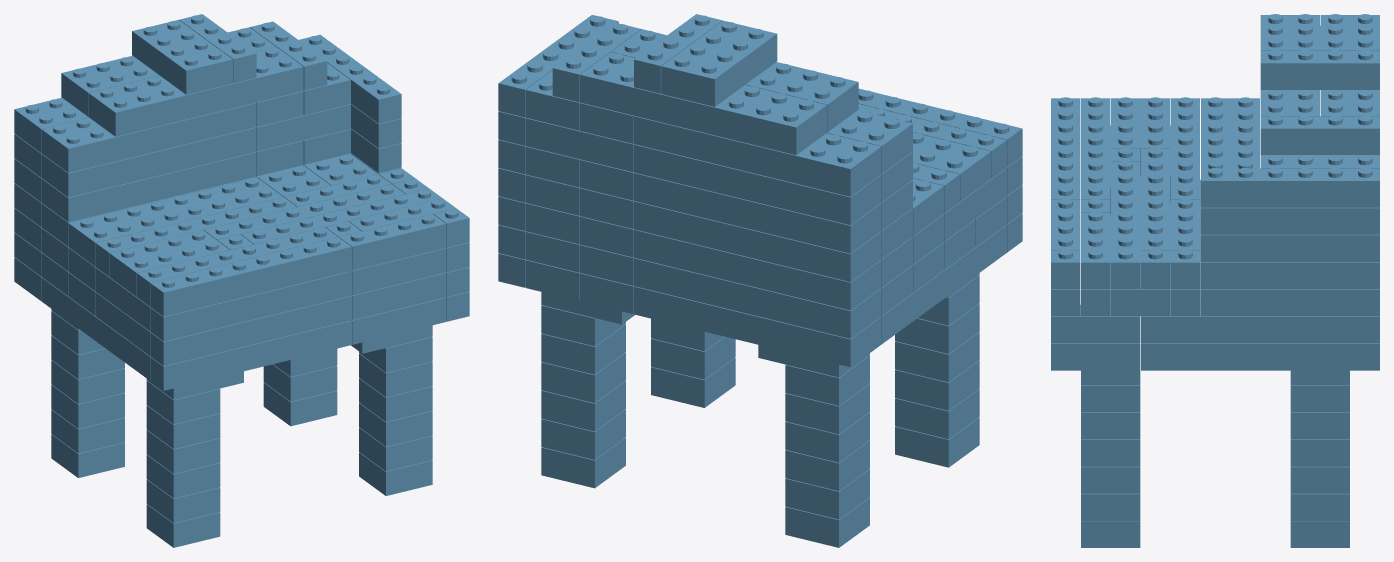
The model's file is 028_bed_L3.glb.
The picture shows the model from 3 angles, left to right: view 1: azimuth 30°, elevation 25°; view 2: azimuth 150°, elevation 25°; view 3: azimuth 270°, elevation 25°; orthographic projection. The views are drawn at different scales.
Size of the model in its own units: 12.98 by 16.13 by 10.98.
